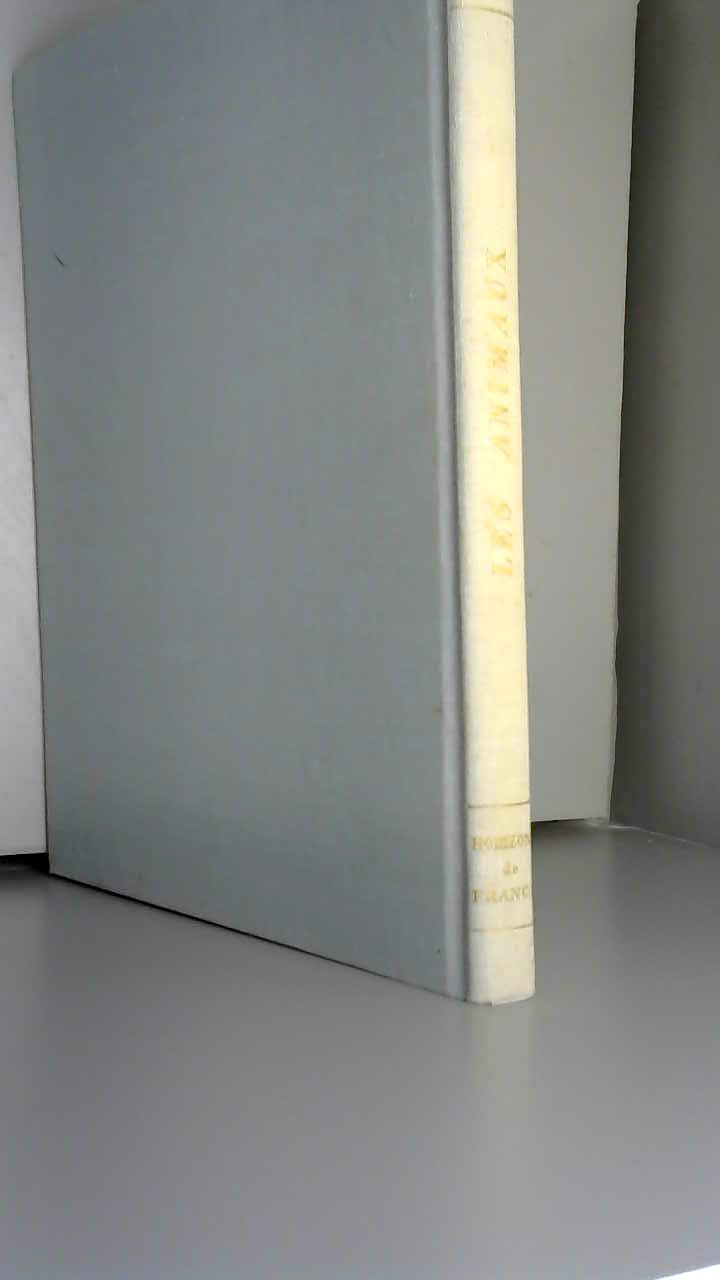book: (0, 0, 557, 1028)
